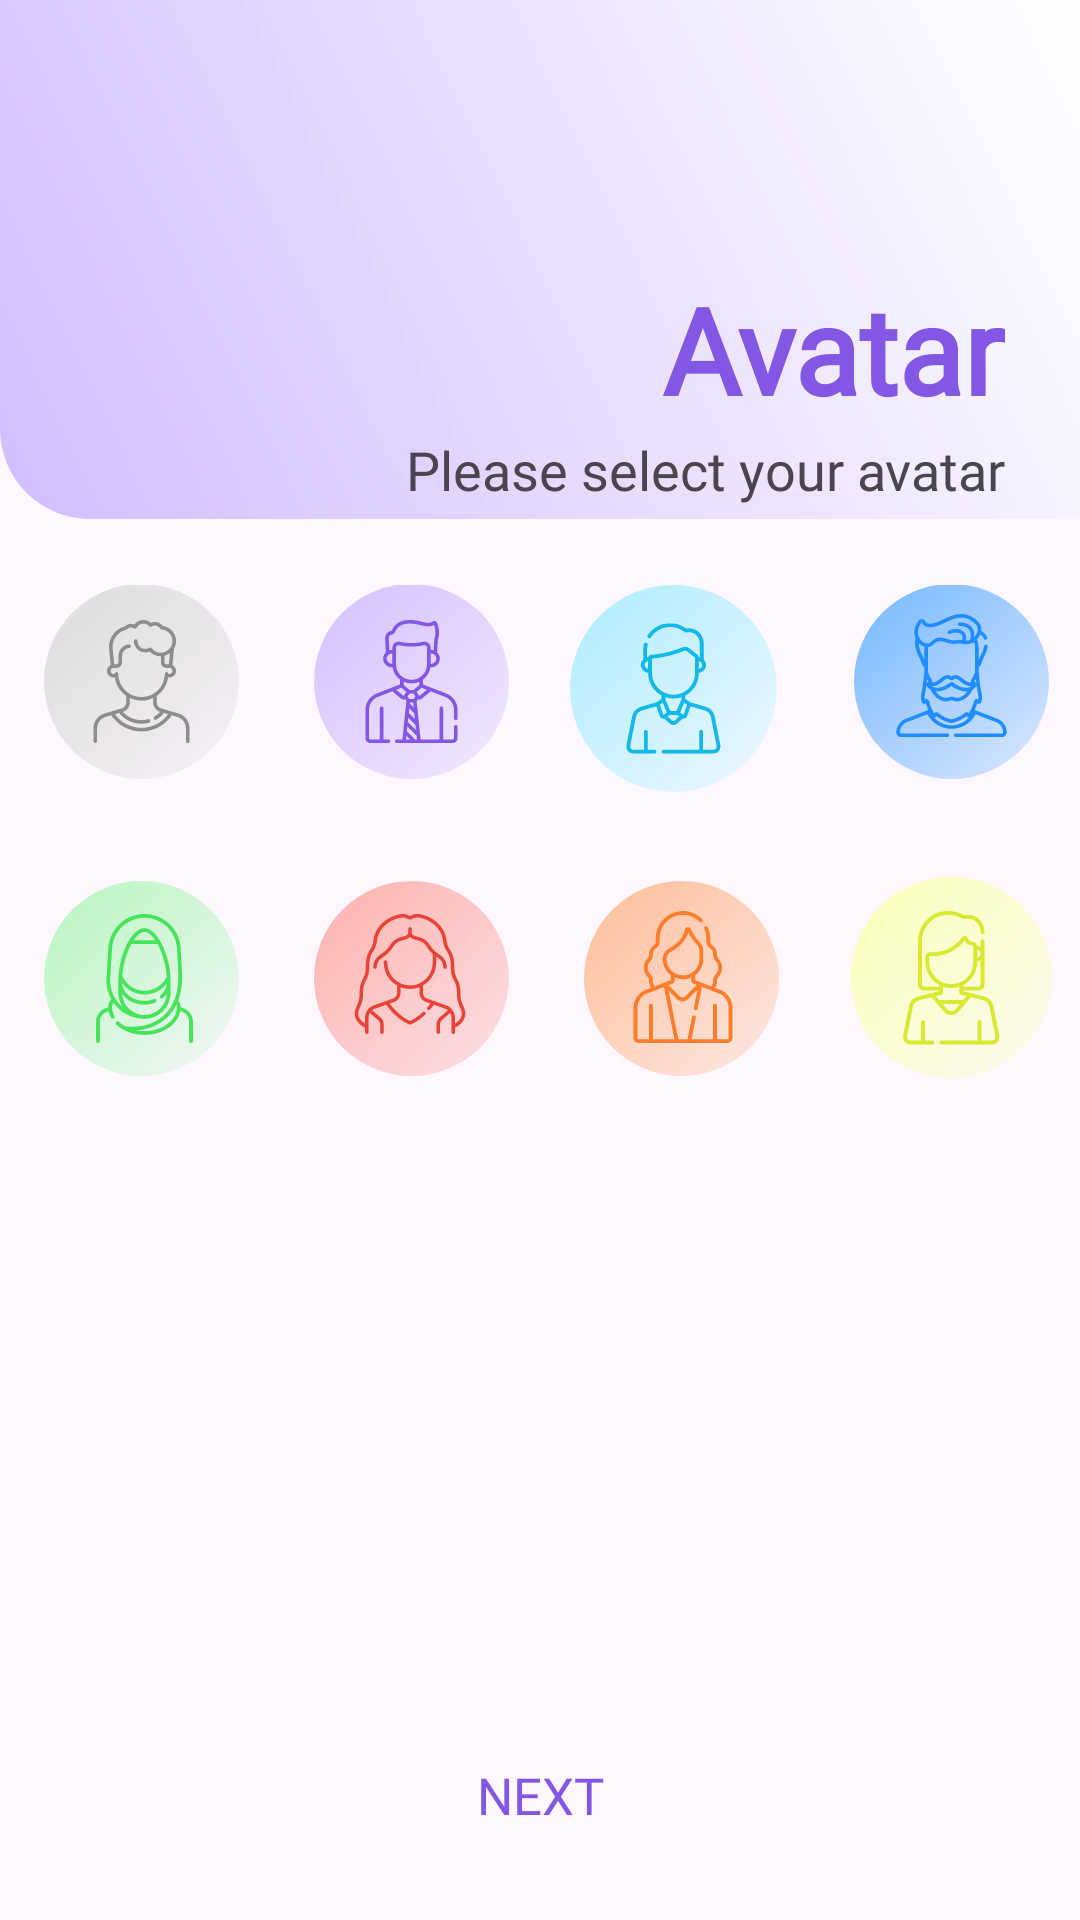

Icon click points for this 1080x1920 phone screenshot, format [x,y]:
avt: [141,682], [411,682], [673,688], [951,682], [951,977], [141,978], [411,978], [681,978]
